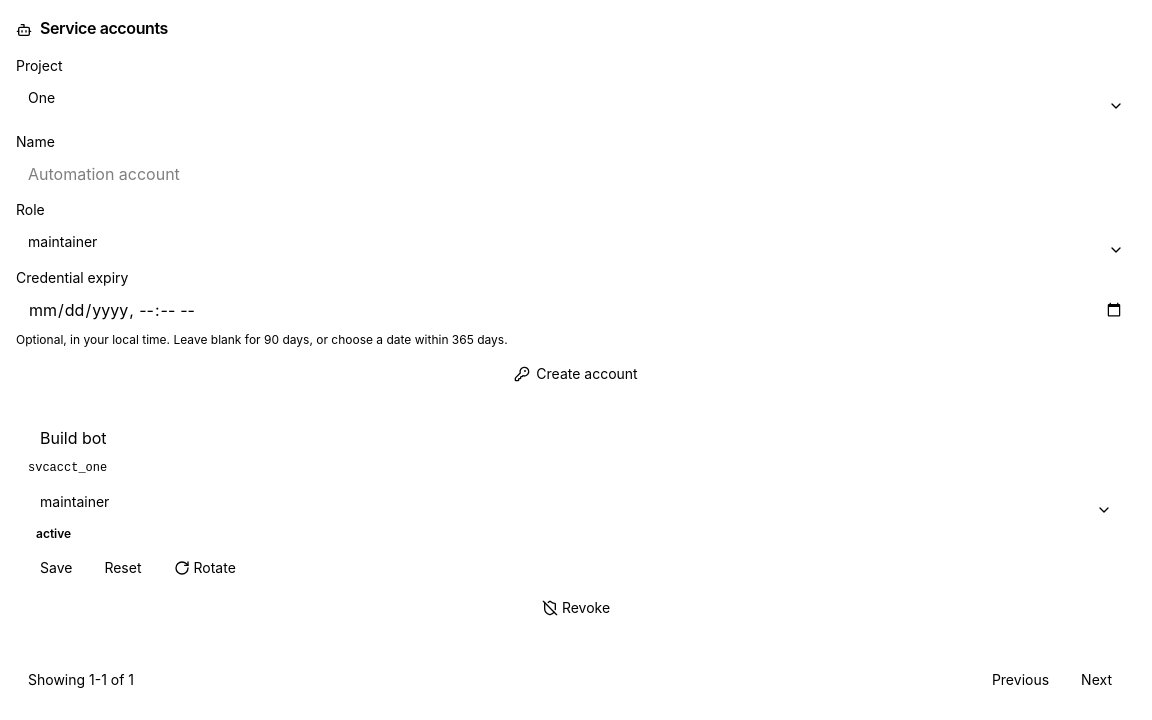
Test: refresh failure preserves service account edits until retry
Replace the text in the field named "Name for Build bot" with "Unsaved rename": (576, 438) [28,420,1124,456]
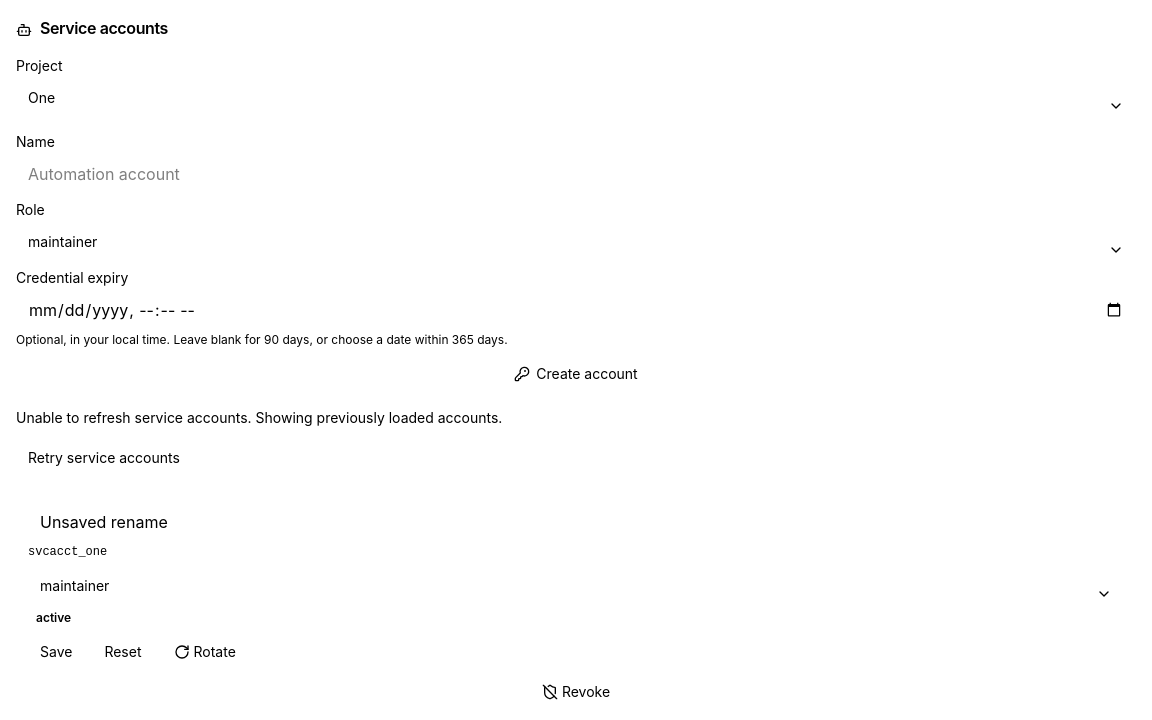
Expected: the text "Unable to refresh service accounts. Showing previously loaded accounts." is shown, [16,409,502,426]
Expected: the button "Save" is disabled, [28,636,84,668]
Expected: the button "Rotate" is disabled, [162,636,248,668]
Click the button "Retry service accounts": (104, 458) [16,440,192,476]
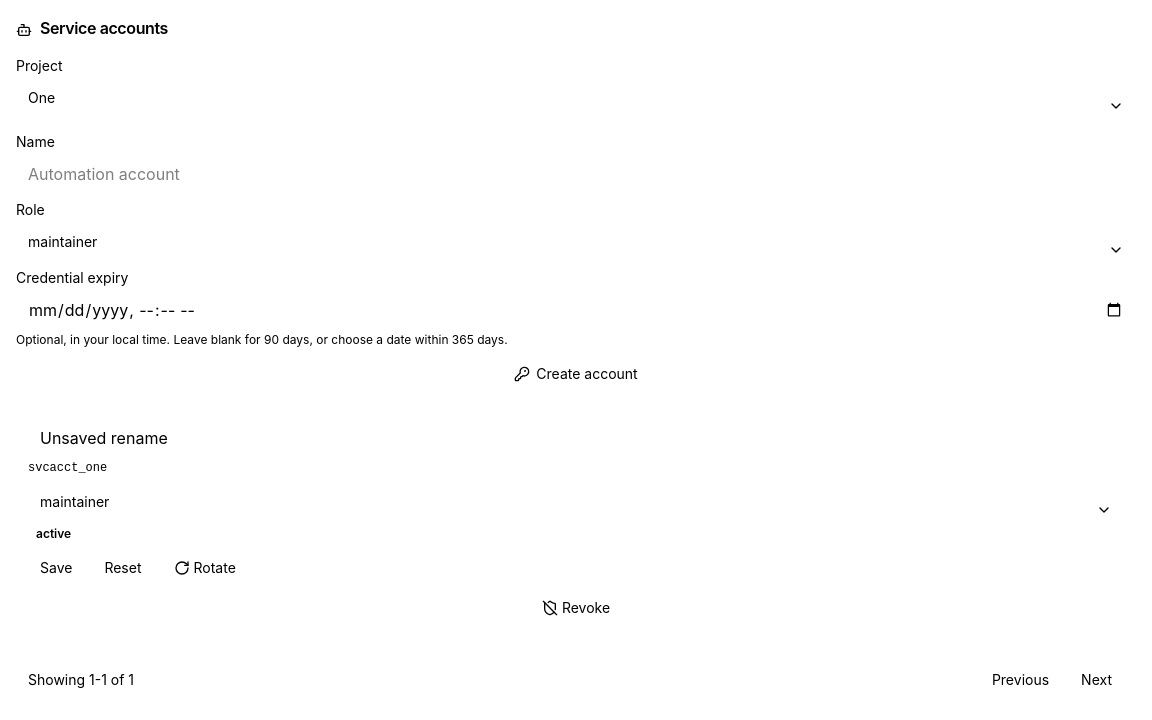
Expected: the message "Unable to refresh service accounts. Showing previously loaded accounts." is gone
Expected: the button "Save" is enabled, [28,552,84,584]
